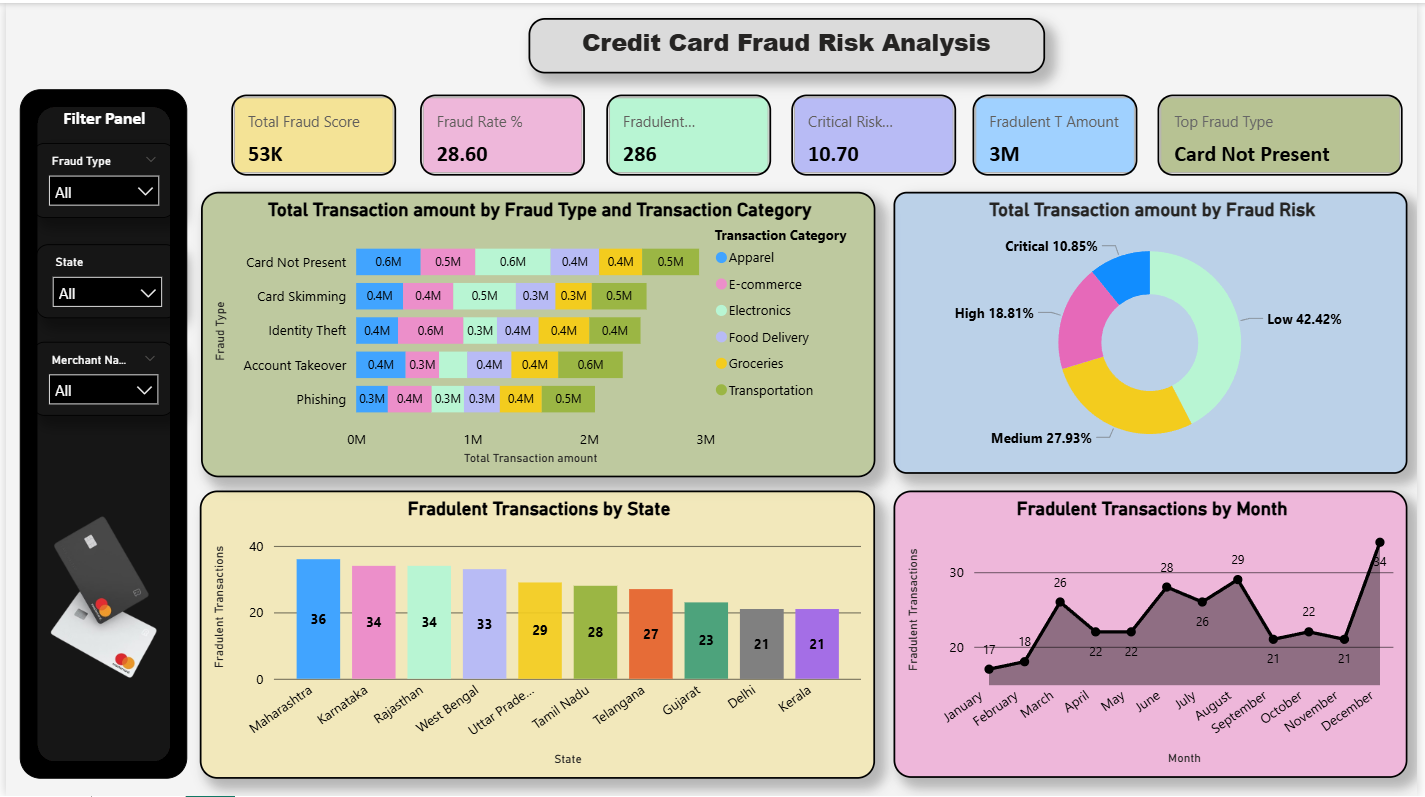

The page's visual inventory and layout, read from the dashboard file:
{"tool":"powerbi","page":{"name":"Page 1","canvas":[1280,720],"ordinal":0},"visuals":[{"type":"textbox","box":[474.4,14,468.6,50],"z":0},{"type":"shape","box":[12.8,77.9,152.3,625.6],"z":1000},{"type":"textbox","box":[37.2,89.5,103.5,38.4],"z":2000},{"type":"barChart","fields":{"Y":["Credit Card Fraud Risk Analysis.Total Transaction amount"],"Category":["Credit Card Fraud Risk Analysis.Fraud Type"],"Series":["Credit Card Fraud Risk Analysis.Transaction Category"]},"box":[176.7,170.9,611.6,259.3],"z":3000},{"type":"donutChart","fields":{"Y":["Credit Card Fraud Risk Analysis.Total Transaction amount"],"Category":["Credit Card Fraud Risk Analysis.Fraud Risk"]},"box":[805.8,170.9,466.3,255.8],"z":4000},{"type":"columnChart","fields":{"Y":["Credit Card Fraud Risk Analysis.Fradulent Transactions"],"Category":["Credit Card Fraud Risk Analysis.State"]},"box":[175.6,441.9,612.8,261.6],"z":5000},{"type":"lineChart","fields":{"Category":["Credit Card Fraud Risk Analysis.Transaction Date.Variation.Date Hierarchy.Month","Credit Card Fraud Risk Analysis.Transaction Date.Variation.Date Hierarchy.Day"],"Y":["Credit Card Fraud Risk Analysis.Fradulent Transactions"]},"box":[805.8,441.9,466.3,260.5],"z":6000},{"type":"slicer","fields":{"Values":["Credit Card Fraud Risk Analysis.Fraud Type"]},"box":[24,127.4,129.9,68.1],"z":7000},{"type":"slicer","fields":{"Values":["Credit Card Fraud Risk Analysis.State"]},"box":[26.7,218.6,129.1,67.4],"z":8000},{"type":"slicer","fields":{"Values":["Credit Card Fraud Risk Analysis.Merchant Name"]},"box":[23.3,307,129.1,67.4],"z":9000},{"type":"image","box":[1.2,374.4,175.6,329.1],"z":10000},{"type":"cardVisual","fields":{"Data":["Credit Card Fraud Risk Analysis.Fraud Rate %"]},"box":[370.9,77.9,159.3,83.7],"z":11000},{"type":"cardVisual","fields":{"Data":["Credit Card Fraud Risk Analysis.Fradulent Transactions"]},"box":[539.5,77.9,159.3,83.7],"z":12000},{"type":"cardVisual","fields":{"Data":["Credit Card Fraud Risk Analysis.Critical Risk Transaction"]},"box":[708.1,77.9,159.3,83.7],"z":13000},{"type":"cardVisual","fields":{"Data":["Credit Card Fraud Risk Analysis.Fradulent Transaction Amount"]},"box":[872.1,77.9,159.3,83.7],"z":14000},{"type":"cardVisual","fields":{"Data":["Credit Card Fraud Risk Analysis.Top Fraud Type"]},"box":[1039.5,77.9,232.6,83.7],"z":15000},{"type":"cardVisual","fields":{"Data":["Sum(Credit Card Fraud Risk Analysis.Fraud Score)"]},"box":[200,77.9,159.3,83.7],"z":15001}]}

Visuals, with their boxes in screenshot pixels (x1, y1, x2, y2), scaled from the page's 1280x720 canvas onto the 1425x797 screenshot:
textbox: x1=528 y1=15 x2=1050 y2=71
shape: x1=14 y1=86 x2=184 y2=779
textbox: x1=41 y1=99 x2=157 y2=142
barChart - Credit Card Fraud Risk Analysis.Total Transaction amount x Credit Card Fraud Risk Analysis.Fraud Type: x1=197 y1=189 x2=878 y2=476
donutChart - Credit Card Fraud Risk Analysis.Total Transaction amount x Credit Card Fraud Risk Analysis.Fraud Risk: x1=897 y1=189 x2=1416 y2=472
columnChart - Credit Card Fraud Risk Analysis.Fradulent Transactions x Credit Card Fraud Risk Analysis.State: x1=195 y1=489 x2=878 y2=779
lineChart - Credit Card Fraud Risk Analysis.Transaction Date.Variation.Date Hierarchy.Month x Credit Card Fraud Risk Analysis.Transaction Date.Variation.Date Hierarchy.Day: x1=897 y1=489 x2=1416 y2=778
slicer - Credit Card Fraud Risk Analysis.Fraud Type: x1=27 y1=141 x2=171 y2=216
slicer - Credit Card Fraud Risk Analysis.State: x1=30 y1=242 x2=173 y2=317
slicer - Credit Card Fraud Risk Analysis.Merchant Name: x1=26 y1=340 x2=170 y2=414
image: x1=1 y1=414 x2=197 y2=779
cardVisual - Credit Card Fraud Risk Analysis.Fraud Rate %: x1=413 y1=86 x2=590 y2=179
cardVisual - Credit Card Fraud Risk Analysis.Fradulent Transactions: x1=601 y1=86 x2=778 y2=179
cardVisual - Credit Card Fraud Risk Analysis.Critical Risk Transaction: x1=788 y1=86 x2=966 y2=179
cardVisual - Credit Card Fraud Risk Analysis.Fradulent Transaction Amount: x1=971 y1=86 x2=1148 y2=179
cardVisual - Credit Card Fraud Risk Analysis.Top Fraud Type: x1=1157 y1=86 x2=1416 y2=179
cardVisual - Sum(Credit Card Fraud Risk Analysis.Fraud Score): x1=223 y1=86 x2=400 y2=179
